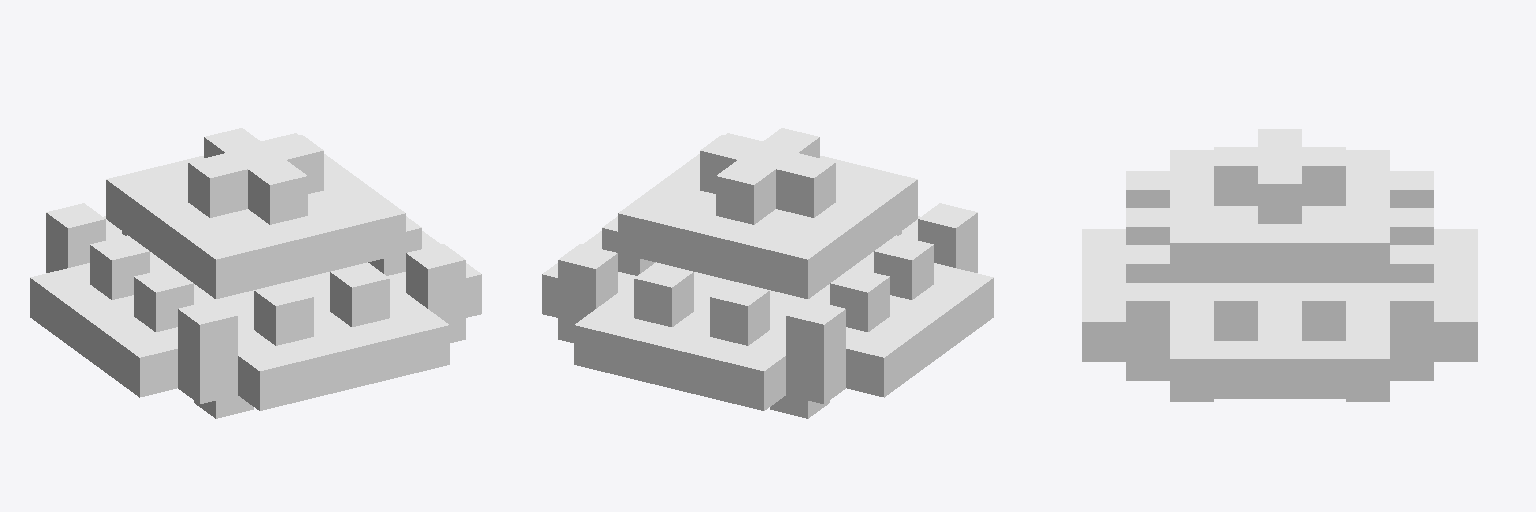
Rendered from UFOv1.0.obj.
3 renders of one model, left to right at view 1: azimuth 30°, elevation 25°; view 2: azimuth 150°, elevation 25°; view 3: azimuth 270°, elevation 25°, orthographic.
Visible parts, largest first — view 1: object 1; view 2: object 1; view 3: object 1.
Part boxes in pixels (bbox=[...]): object 1: bbox=[30, 128, 481, 418]; object 1: bbox=[542, 128, 993, 418]; object 1: bbox=[1082, 129, 1477, 401].
Bounding box in the file's own units: 0.9 × 0.5 × 0.9.